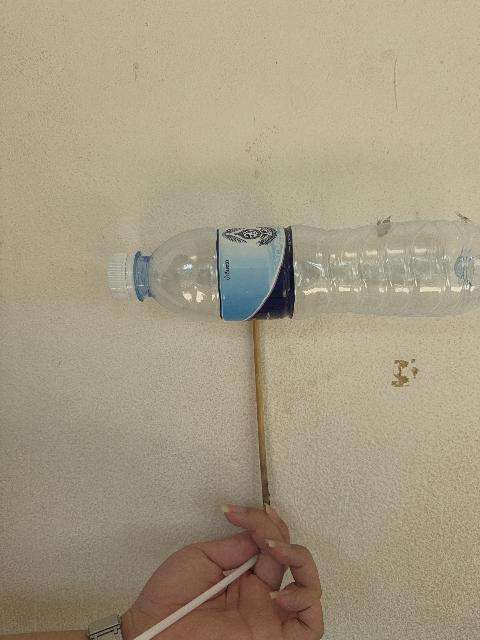bottle: (108, 221, 479, 320)
